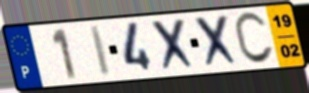1: (50, 27, 80, 82)
4: (121, 20, 157, 77)
C: (232, 10, 276, 67)
I: (88, 23, 113, 78)
X: (192, 12, 242, 70), (149, 16, 199, 74)
